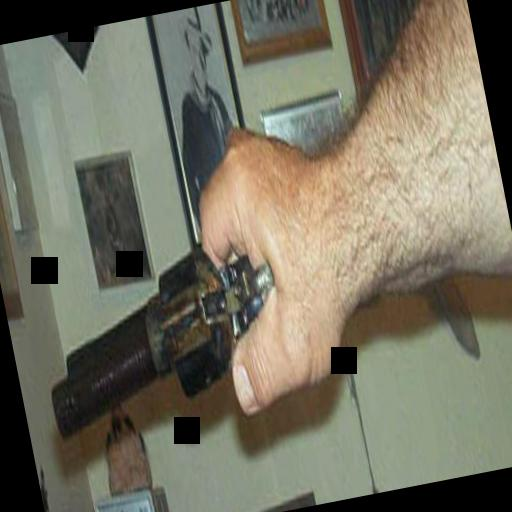Handgun: (20, 205, 302, 464)
